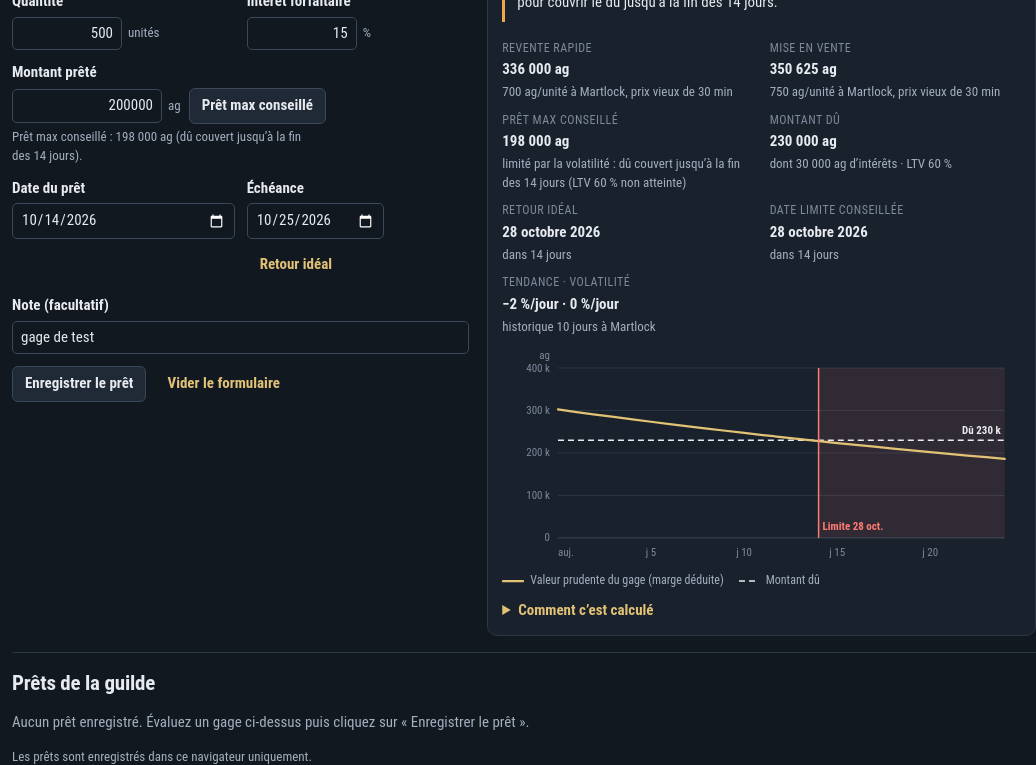
Test: page Prêts sur gage — liste et stockage › lien partagé #/guilde/prets?l=… : formulaire pré-rempli, rien d’enregistré sans clic ; lien illisible signalé
(page scrolled)
Expected: the field labelled "Quantité" holds "500", [12, 17, 122, 50]
Expected: the field labelled "Montant prêté" holds "200000", [12, 89, 162, 123]
Click the button "Enregistrer le prêt" at coordinates (79, 384), box [12, 366, 146, 402]
(page scrolled)
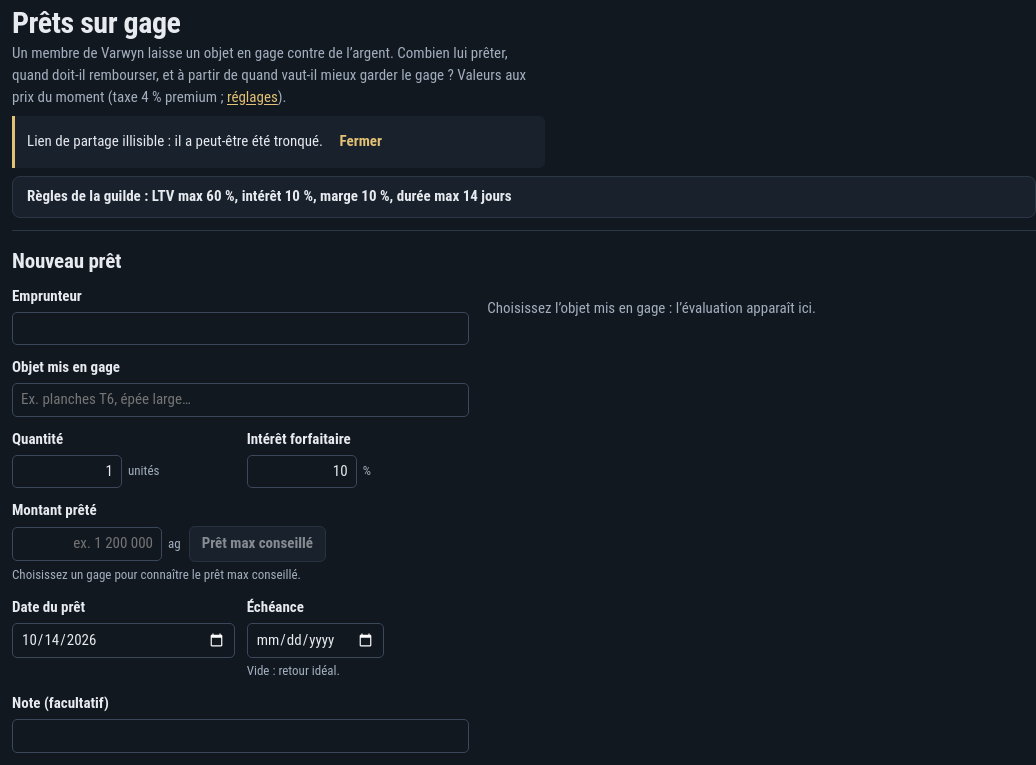
Expected: the text "Lien de partage illisible : il a peut-être été tronqué. Fermer" is shown, [12, 116, 545, 168]
